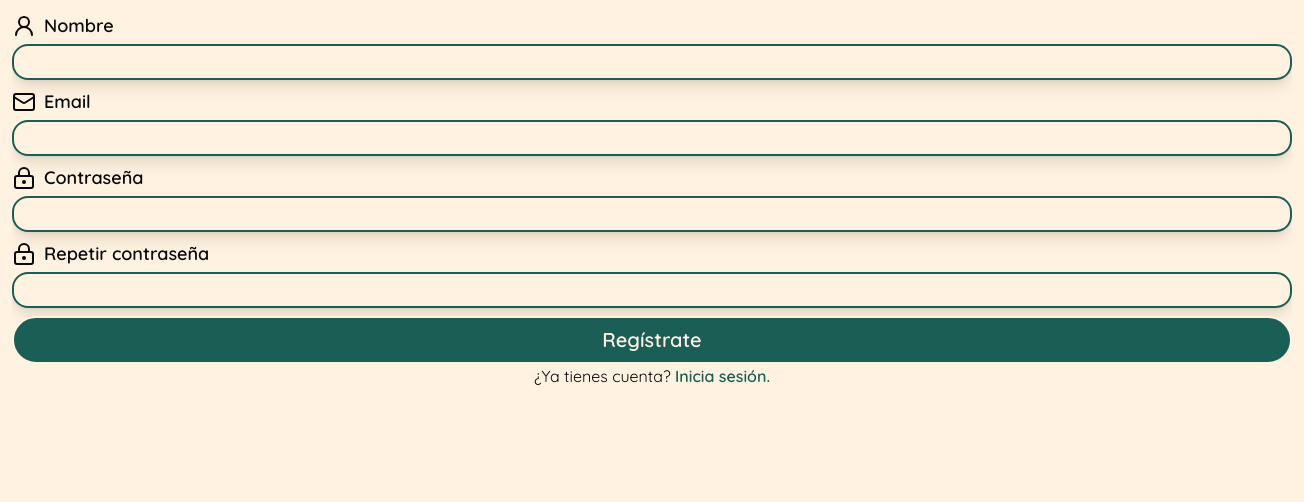
Given the RegisterForm component › When it renders › And the user submit with invalid email › Then it should show 'El email no es válido' message
The width and height of the screenshot is (1304, 502).
Type "francisca@test1" into the field labelled "Email" at (652, 138), box [12,120,1292,156]
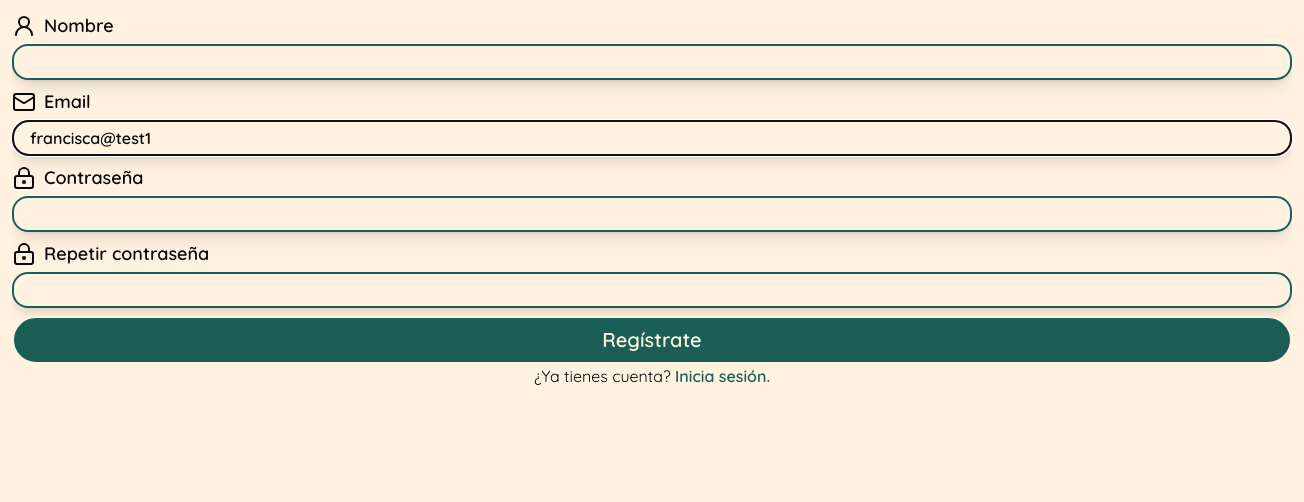
Click the button "Regístrate" at (652, 340), box [12,316,1292,364]
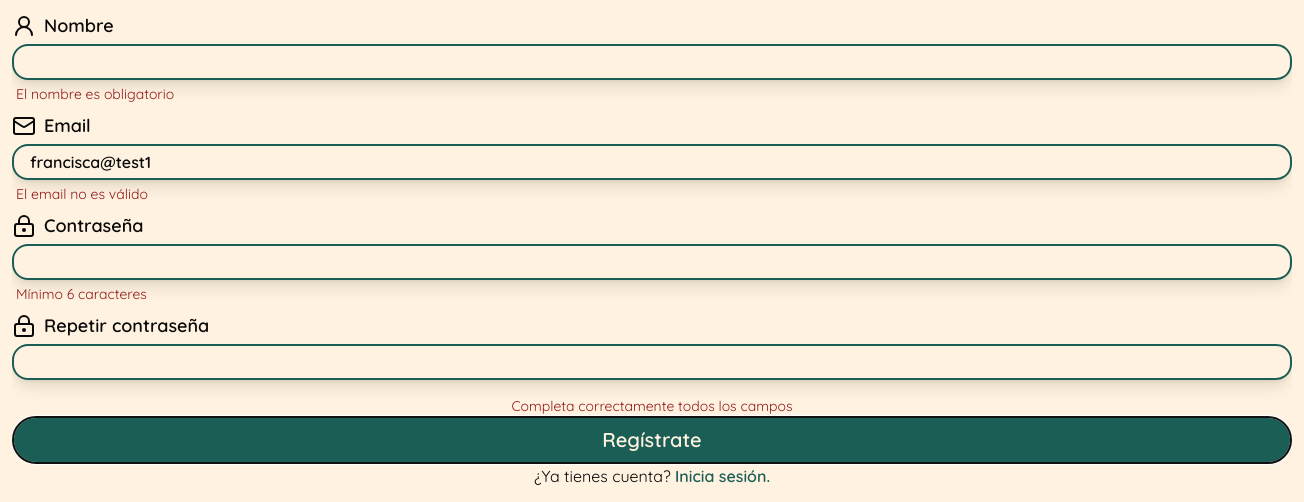
Now the text "El email no es válido" is shown, box [16,185,148,203]
